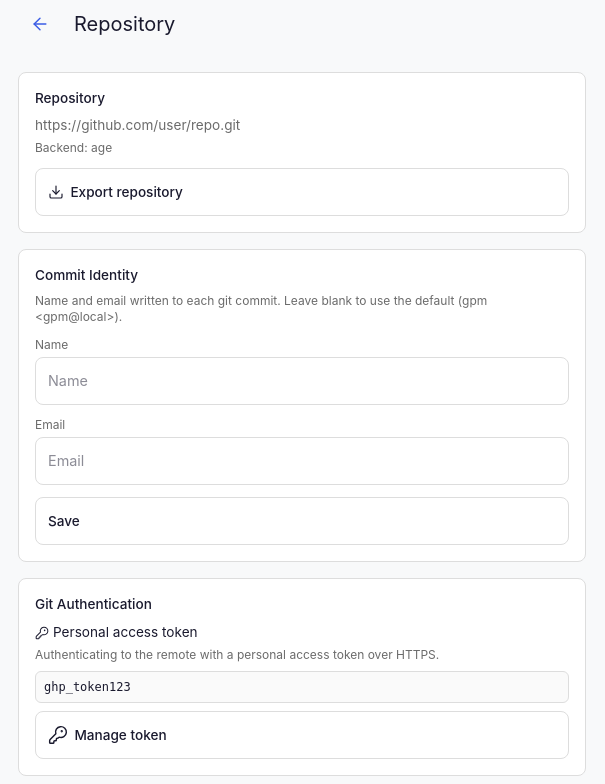
Test: SettingsRepositoryPage › dirty tracking › marks Commit Identity dirty on edit and clears on Save
The image size is (605, 784).
Check: the text "Unsaved changes" is not shown
Type "Alice" into the field with id "commit-name" at (302, 381), box 35,357 -> 569,405
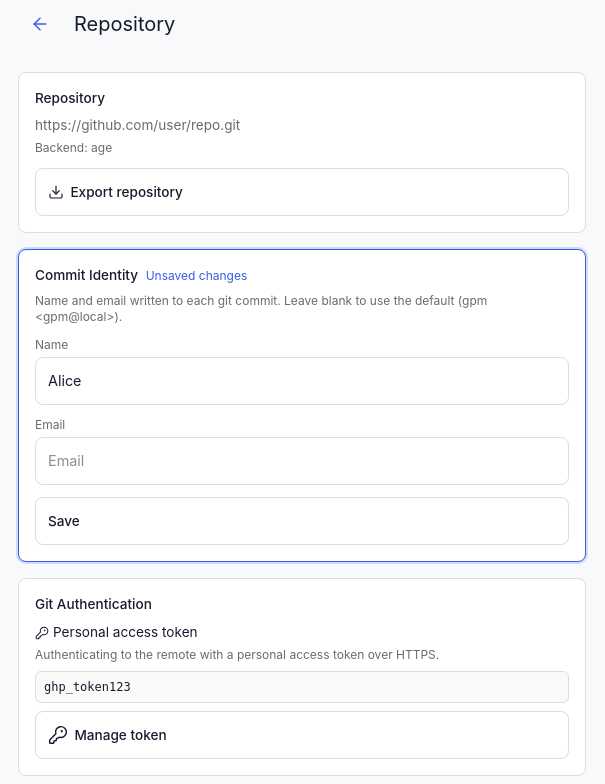
Check: the text "Unsaved changes" is shown, box 146,268 -> 247,283
Click the button "Save" at (64, 521), box 35,497 -> 569,545
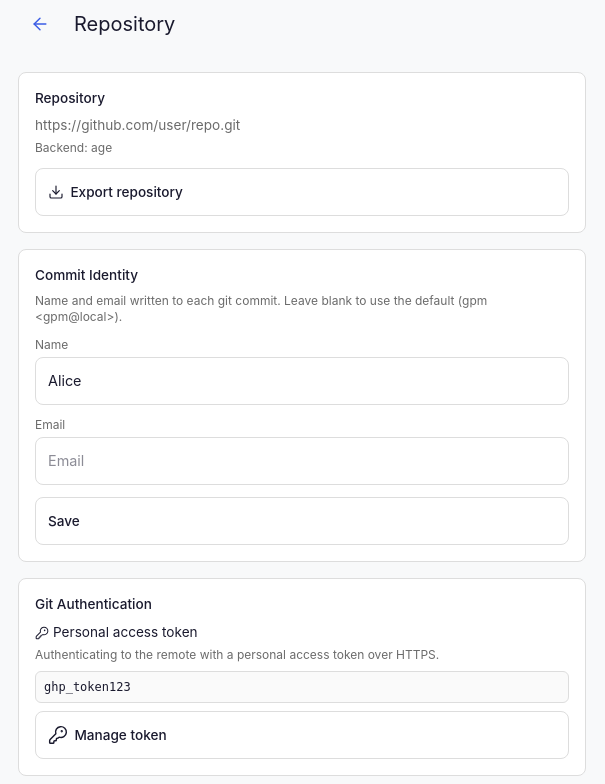
Check: the text "Unsaved changes" is gone
